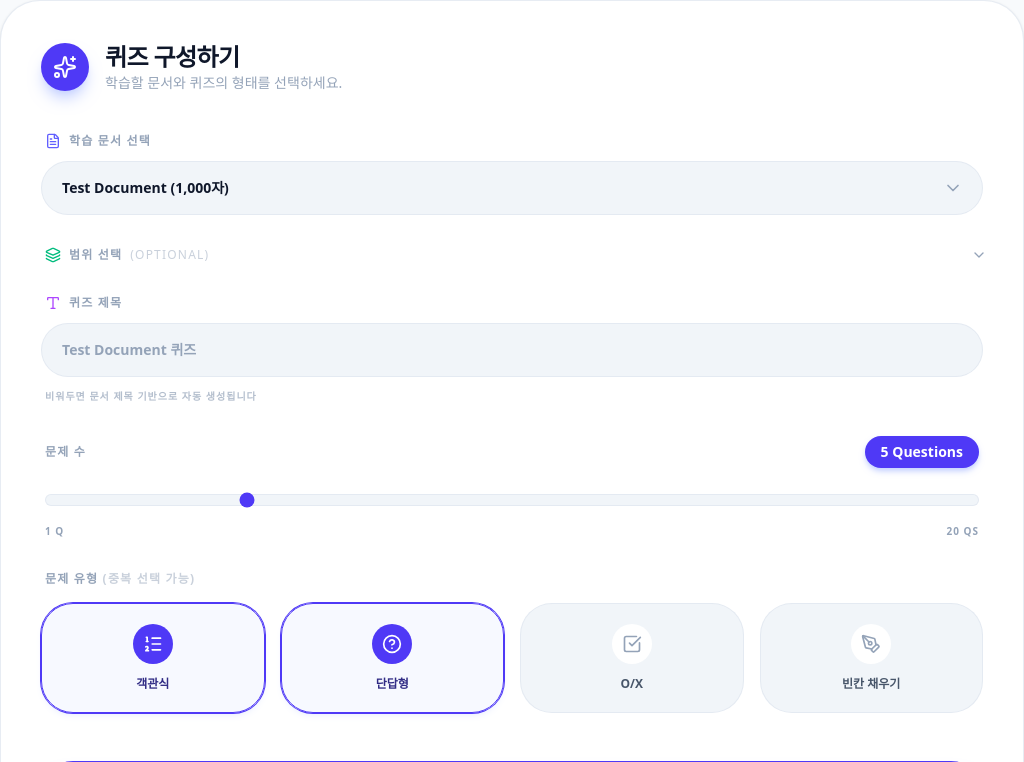
Test: QuizConfigForm › toggles chunk checkbox selection
Click the text "범위 선택" at (96, 255), box x1=69 y1=247 x2=122 y2=263
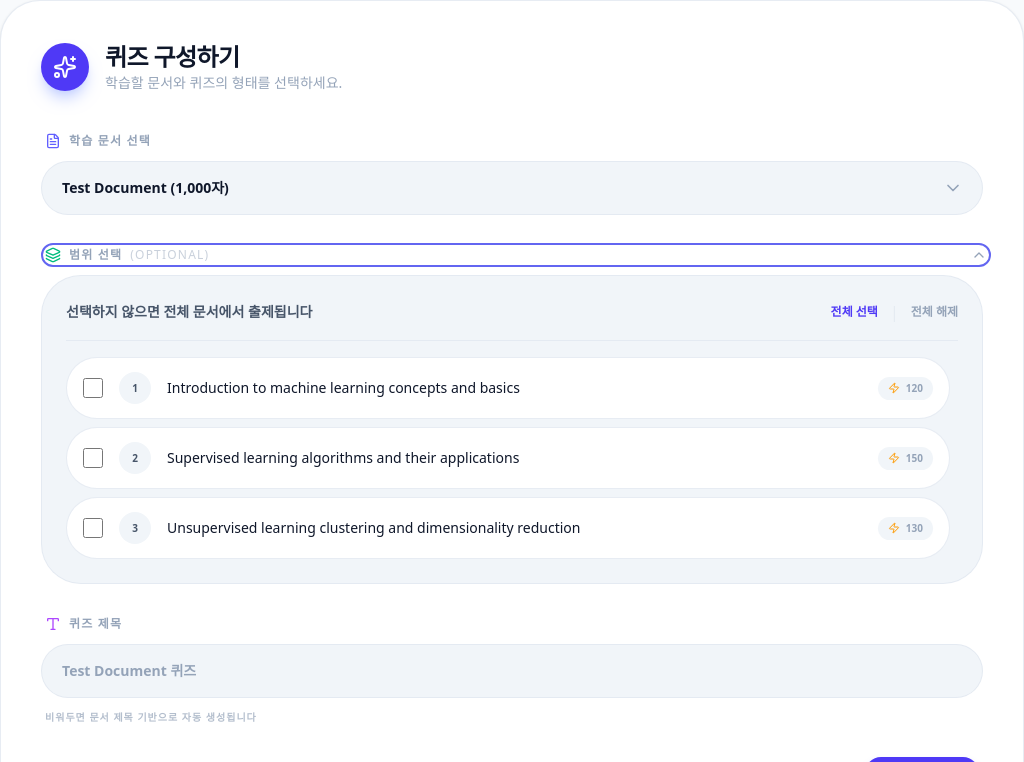
Expected: the number of checkboxes is 3
Click the checkbox labelled "1 Introduction to machine learning concepts and basics 120" at (93, 388), box x1=83 y1=378 x2=103 y2=398
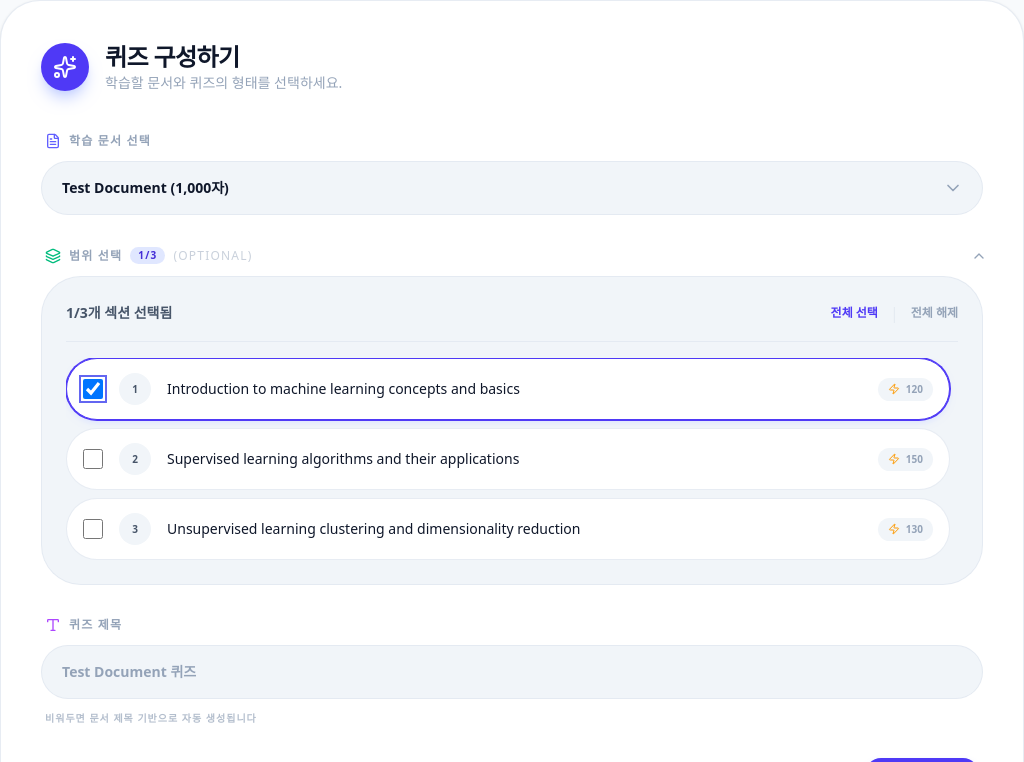
Expected: the checkbox labelled "1 Introduction to machine learning concepts and basics 120" is checked, x1=83 y1=379 x2=103 y2=399
Expected: the text "1/3개 섹션 선택됨" is shown, x1=66 y1=303 x2=172 y2=323
